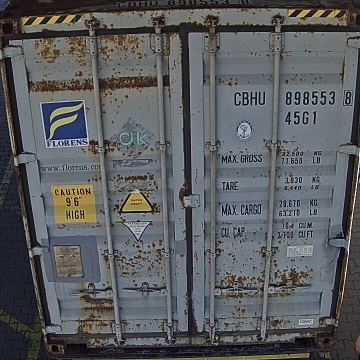serial_id: (234, 90, 353, 105)
